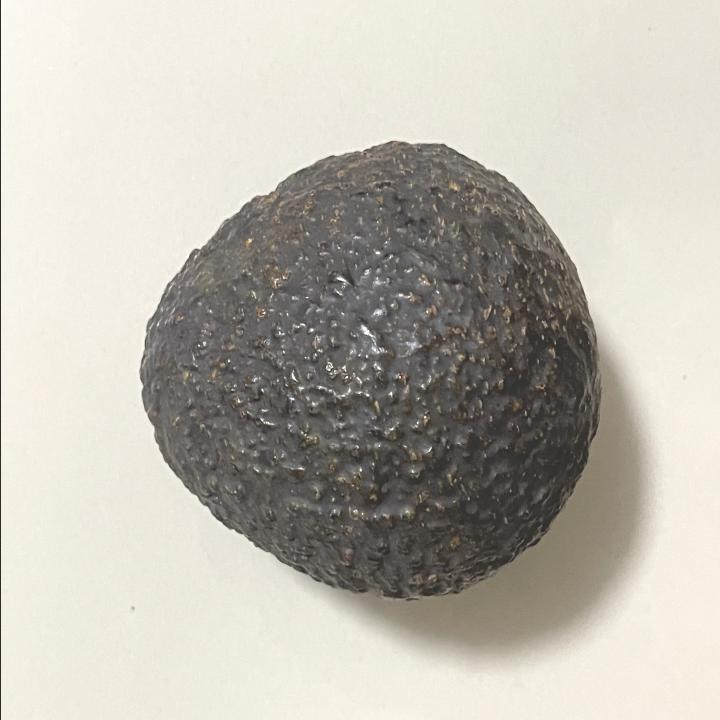Level2: (136, 135, 610, 608)
